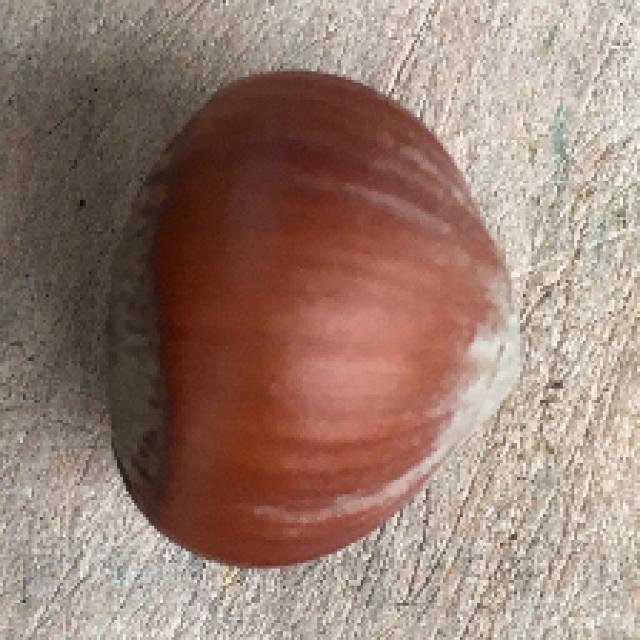qualityHazelnut: (99, 68, 522, 568)
